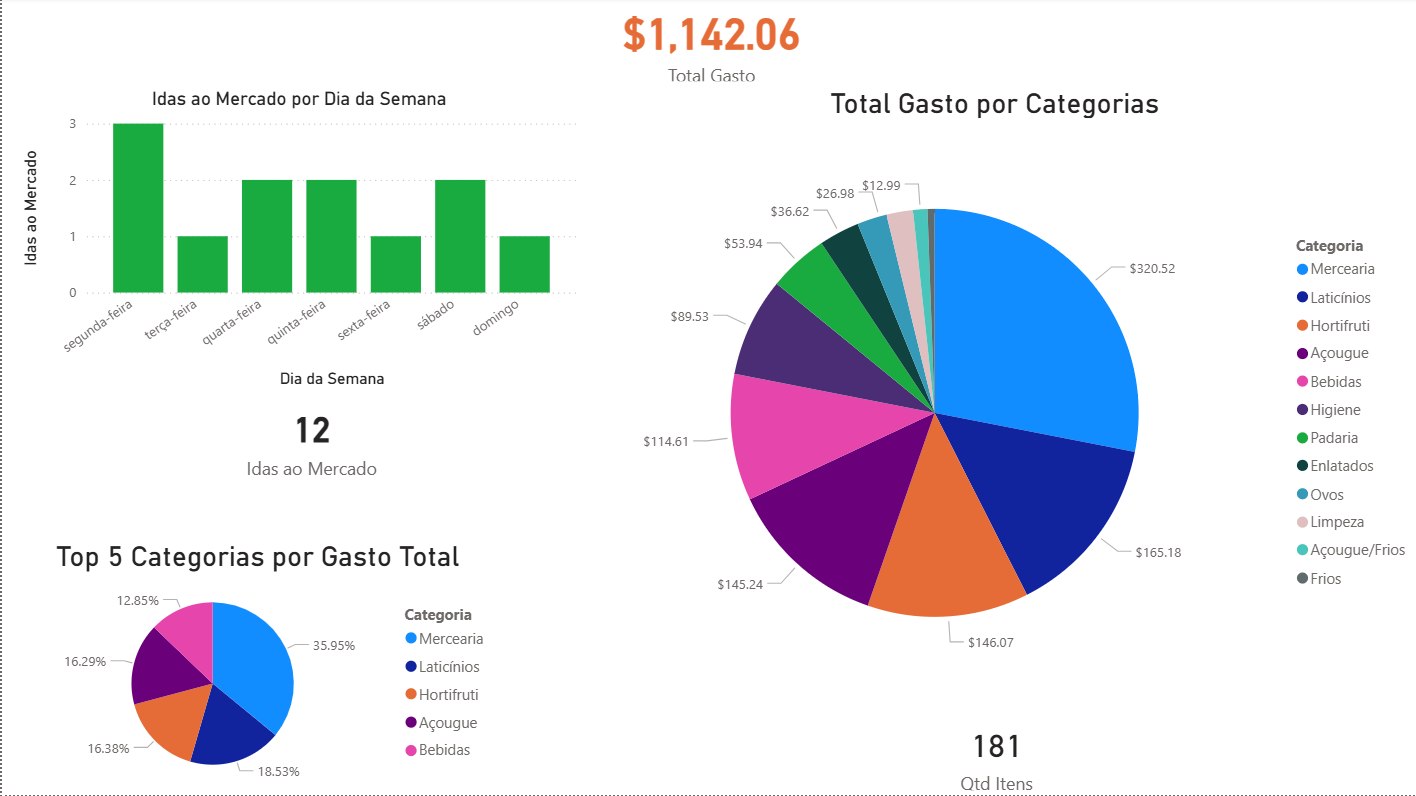

The page's visual inventory and layout, read from the dashboard file:
{"tool":"powerbi","page":{"name":"Geral","canvas":[1280,720],"ordinal":0},"visuals":[{"type":"card","fields":{"Values":["Mercado.Total Gasto"]},"box":[459.9,0,342.6,87.9],"z":0},{"type":"card","fields":{"Values":["Mercado.Qtd Itens"]},"box":[782.6,640.7,191.9,79.1],"z":1000},{"type":"pieChart","title":"Total Gasto por Categorias","fields":{"Category":["Mercado.Categoria"],"Y":["Mercado.Total Gasto"]},"box":[510.6,101.4,769.8,538.8],"z":2000},{"type":"pieChart","title":"Top 5 Categorias por Gasto Total","fields":{"Category":["Mercado.Categoria"],"Y":["Mercado.Total Gasto"]},"box":[12.2,490.4,436.6,229.9],"z":3000},{"type":"clusteredColumnChart","fields":{"Category":["Mercado.Dia da Semana"],"Y":["Mercado.Idas ao Mercado"]},"box":[0,101.4,510.6,276.1],"z":4000},{"type":"card","fields":{"Values":["Mercado.Idas ao Mercado"]},"box":[204,370.8,173.6,76.6],"z":5000}]}

Visuals, with their boxes in screenshot pixels (x1, y1, x2, y2), scaled from the page's 1280x720 canvas onto the 1416x796 screenshot:
card - Mercado.Total Gasto: select_region(509, 0, 888, 97)
card - Mercado.Qtd Itens: select_region(866, 708, 1078, 795)
"Total Gasto por Categorias" pieChart: select_region(565, 112, 1415, 708)
"Top 5 Categorias por Gasto Total" pieChart: select_region(13, 542, 496, 795)
clusteredColumnChart - Mercado.Dia da Semana x Mercado.Idas ao Mercado: select_region(0, 112, 565, 417)
card - Mercado.Idas ao Mercado: select_region(226, 410, 418, 495)
